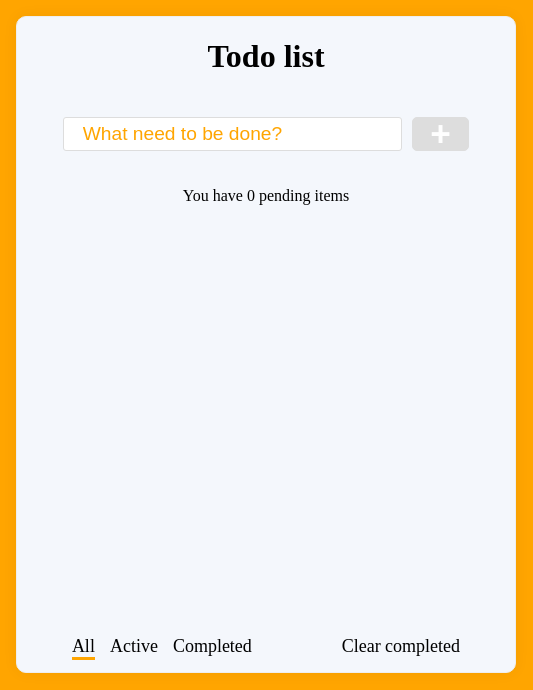
Test: App › should add a todo
Type "New Todo" into the field with placeholder "What need to be done?". click: point(232, 134)
box: [62,117,402,152]
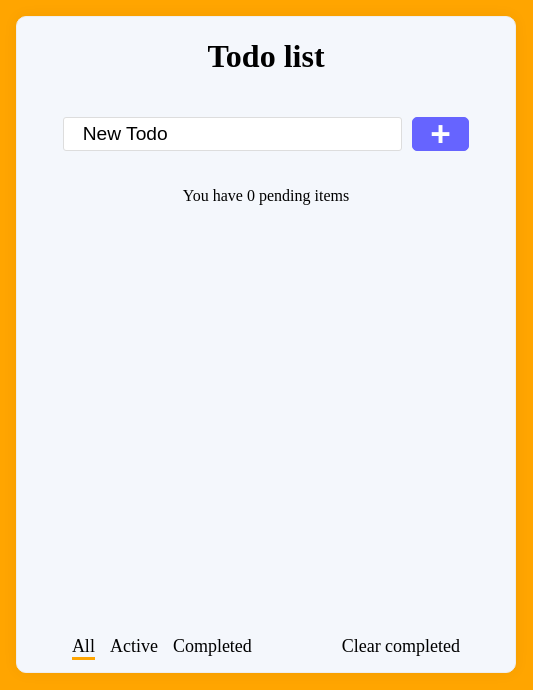
Submit the form from the field with placeholder "What need to be done?", box [62,117,402,152]
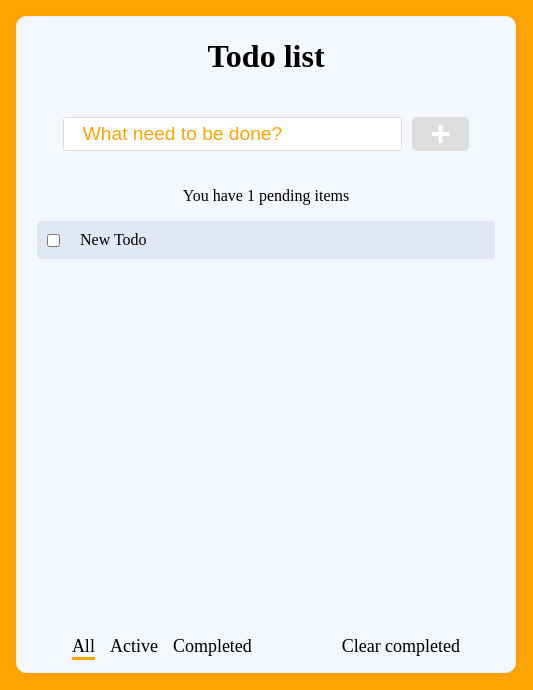
Expected: the text "New Todo" is shown, [80,232,147,250]
